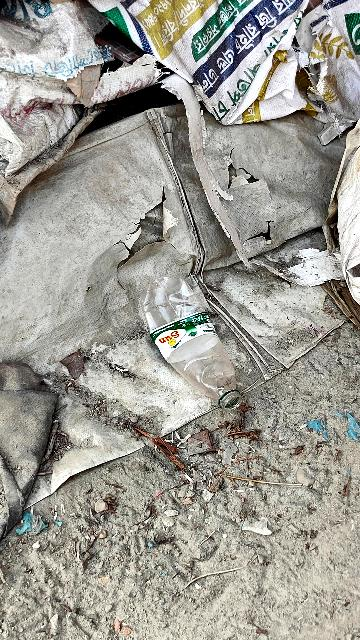bottle: (133, 273, 259, 420)
